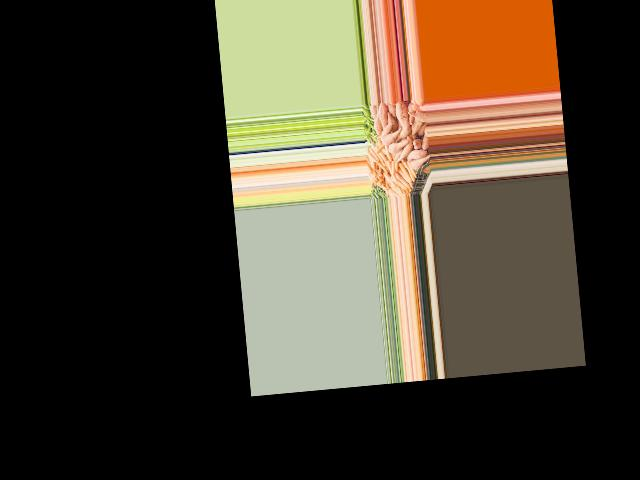carrot: (399, 160, 411, 182)
